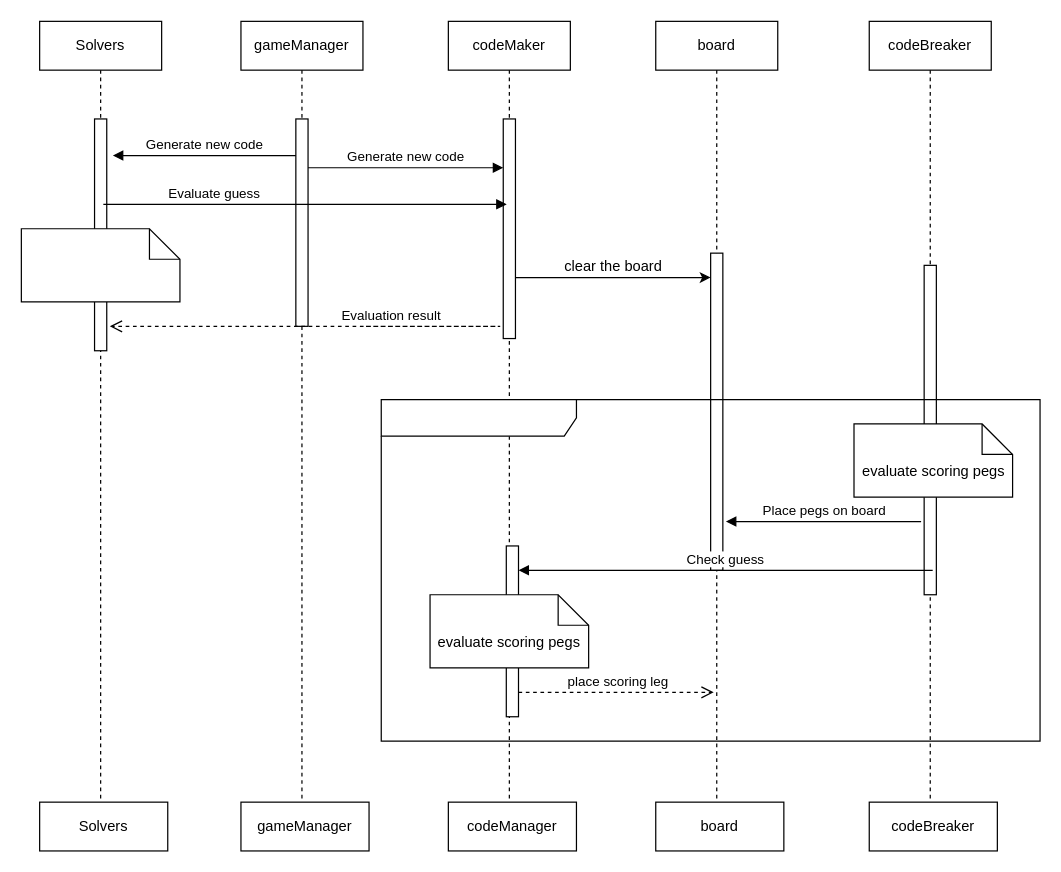
This 1061x872 diagram has some shape labels left out. Each missing label, with the centre of its shape:
loop: 12 times or until correct: the point at 710,569
Solving algorithm: the point at 100,265
